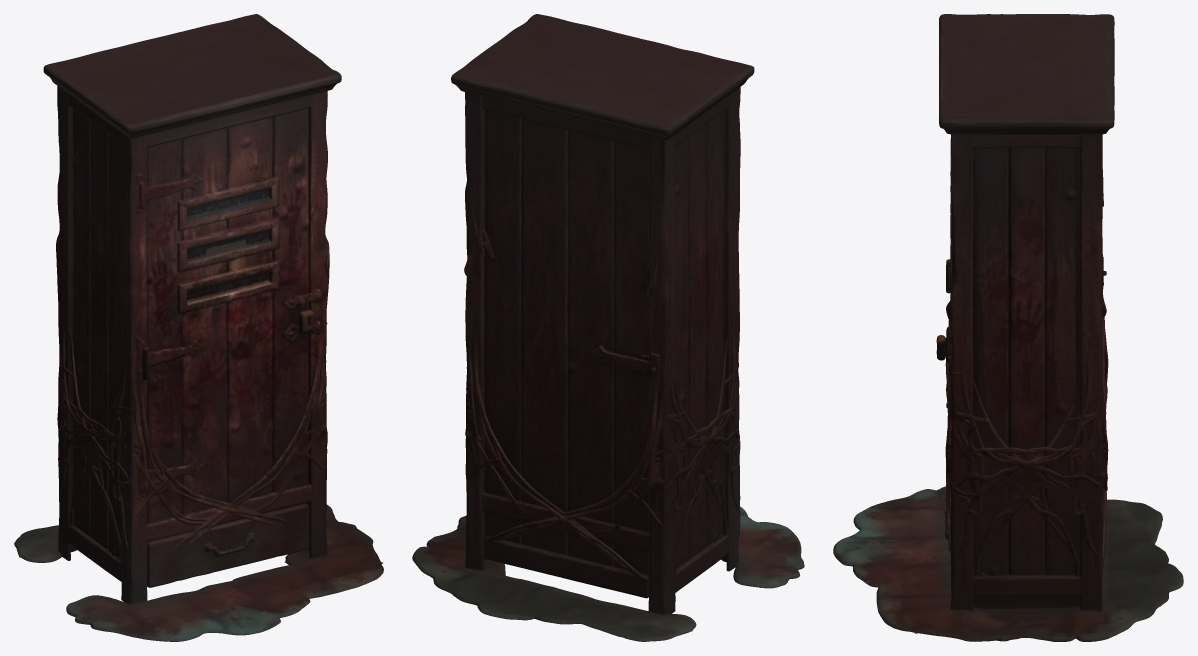
The model's file is haunted+wooden+cabinet+3d+model.glb.
3 views of the same model, side by side, from view 1: azimuth 30°, elevation 25°; view 2: azimuth 150°, elevation 25°; view 3: azimuth 270°, elevation 25° (orthographic). The views are drawn at different scales.
Visible parts, largest first — view 1: tripo_node_c6bde046-8693-42e2-8df6-f79c0b4a191d; view 2: tripo_node_c6bde046-8693-42e2-8df6-f79c0b4a191d; view 3: tripo_node_c6bde046-8693-42e2-8df6-f79c0b4a191d.
Boxes of the visible parts, <box> form: tripo_node_c6bde046-8693-42e2-8df6-f79c0b4a191d: <box>14,14,383,641</box>; tripo_node_c6bde046-8693-42e2-8df6-f79c0b4a191d: <box>412,14,804,641</box>; tripo_node_c6bde046-8693-42e2-8df6-f79c0b4a191d: <box>833,14,1183,641</box>.
Size of the model in its own units: 0.6605 by 1 by 0.6368.
Materials: 1 (1 with a texture image).
